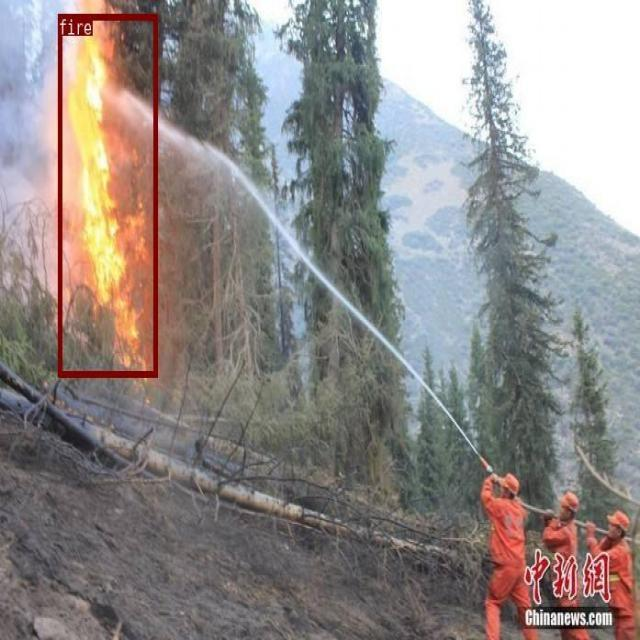fire: (58, 13, 157, 375)
